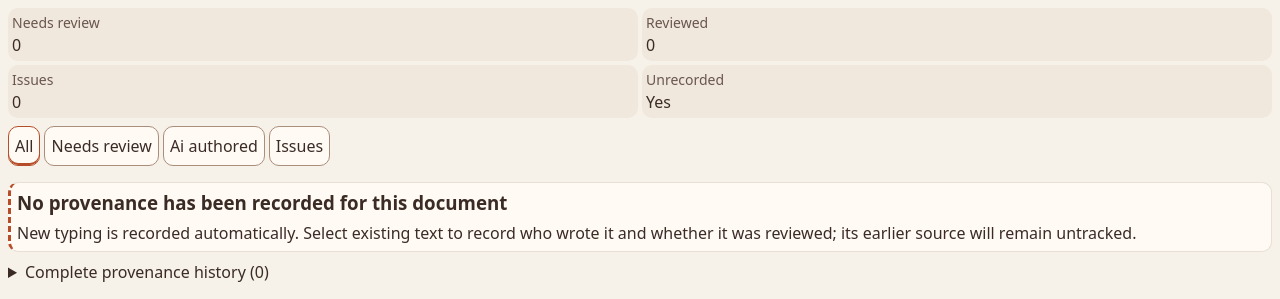
Test: ProvenancePanel › does not leave a zero-record filtered view blank
Click the button "Issues" at (299, 146), box [269,126,330,166]
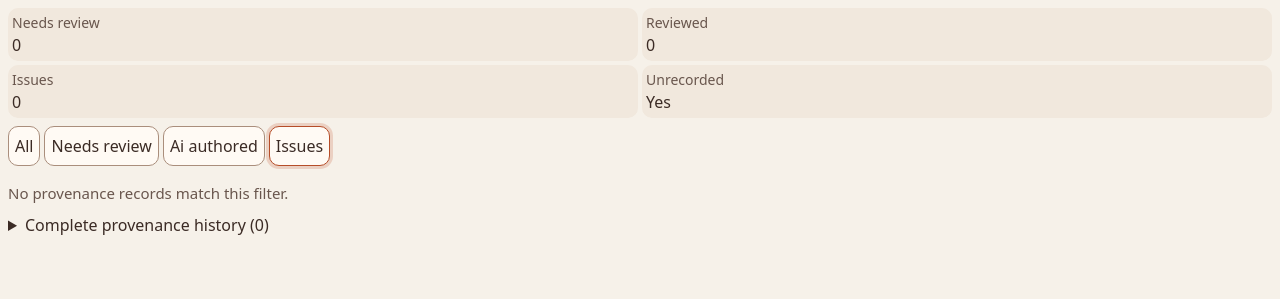
Expected: the button "All" is shown, [8,126,40,166]
Expected: the text "No provenance records match this filter." is shown, [8,183,288,203]
